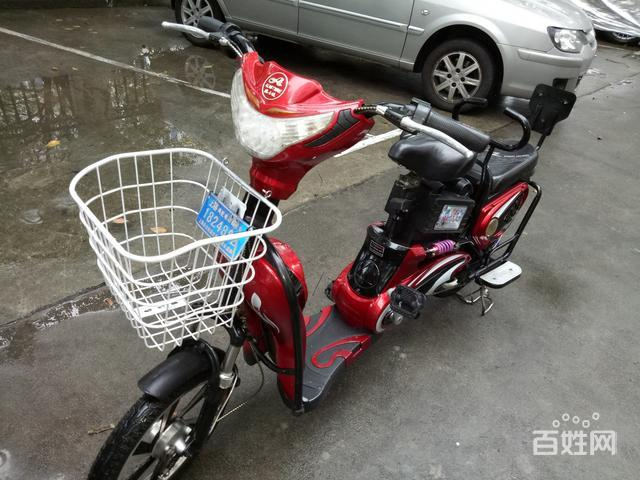电动车: (54, 7, 583, 480)
